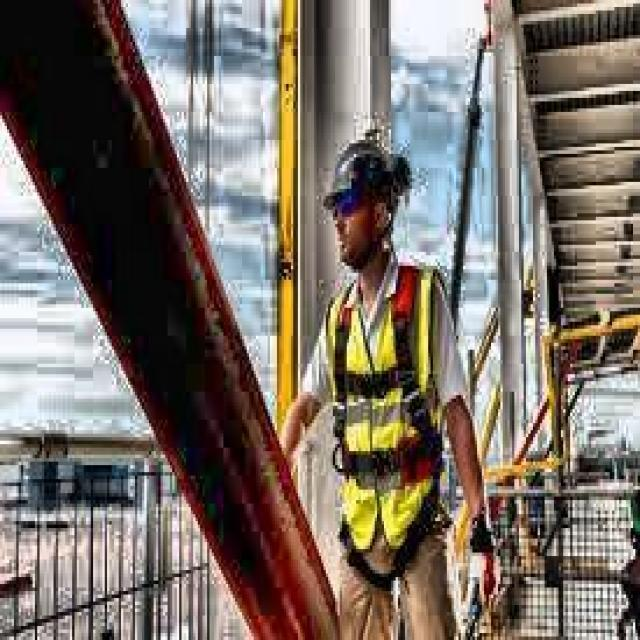belt: (328, 262, 452, 588)
